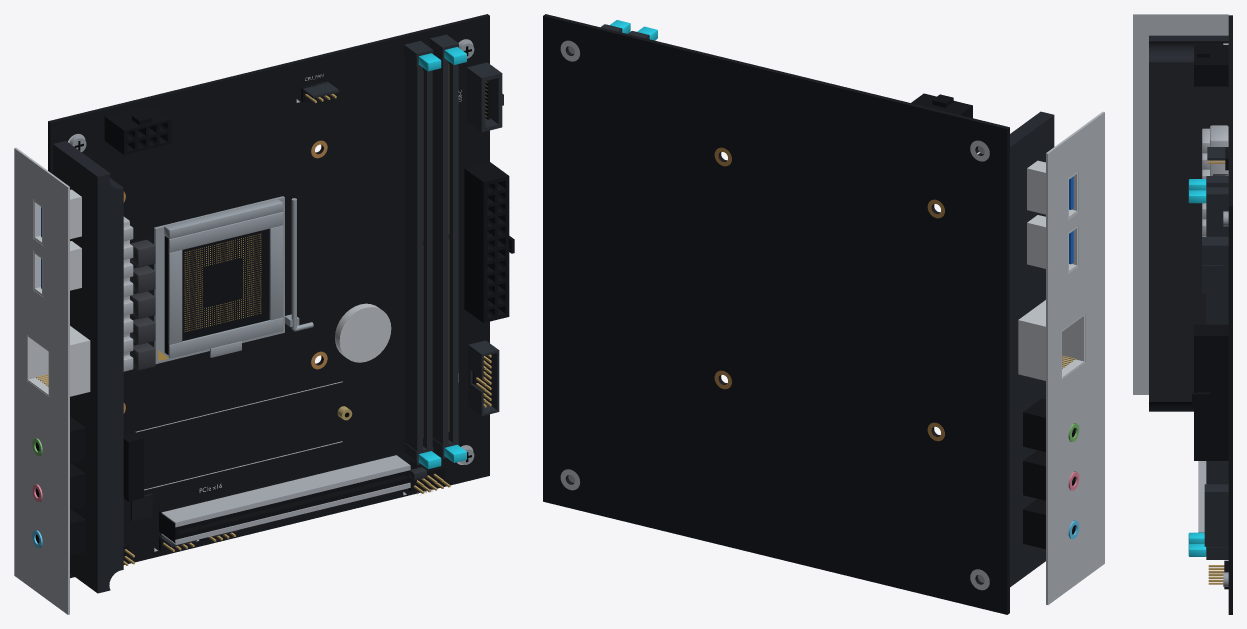
File: f_motherboard_itx.glb
3 renders of one model, left to right at view 1: azimuth 30°, elevation 25°; view 2: azimuth 150°, elevation 25°; view 3: azimuth 270°, elevation 25°, orthographic. The views are drawn at different scales.
Parts seen in each view (by area): view 1: part_motherboard; view 2: part_motherboard; view 3: part_motherboard.
Boxes of the visible parts, bbox=[...] form: part_motherboard: bbox=[14, 14, 514, 614]; part_motherboard: bbox=[543, 14, 1104, 614]; part_motherboard: bbox=[1133, 14, 1232, 614].
Size of the model in its own units: 1.86 by 1.71 by 0.3762.
